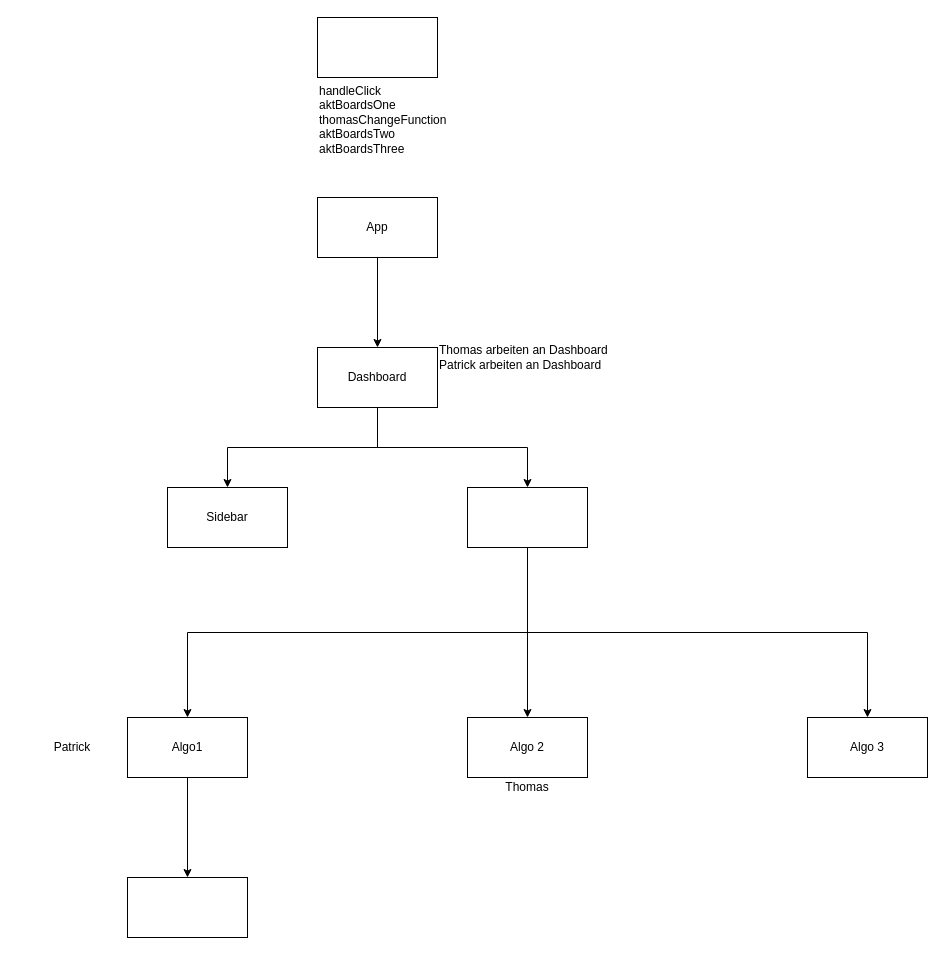
Image size: 945x955. Some labels were removed from this diagram. Each missing label, with the centre of its shape:
Main: the point at 527,517
reduxFactory: the point at 377,47
Stab: the point at 187,907
